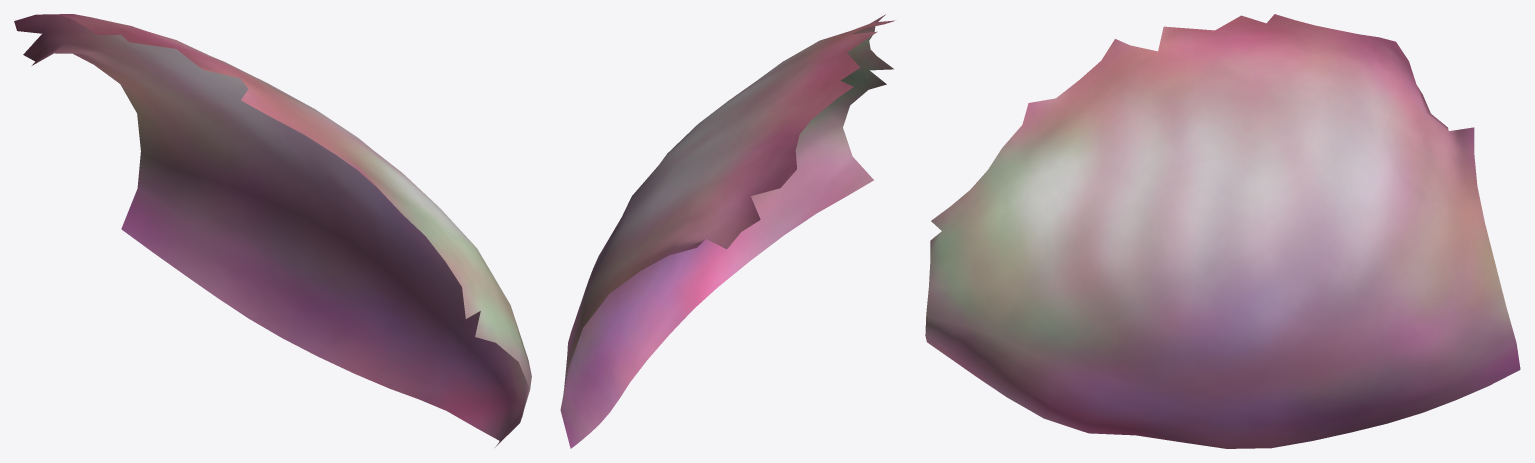
The model's file is putamen.obj.
3 renders of one model, left to right at view 1: azimuth 30°, elevation 25°; view 2: azimuth 150°, elevation 25°; view 3: azimuth 270°, elevation 25°, orthographic. The views are drawn at different scales.
Visible parts, largest first — view 1: putamen; view 2: putamen; view 3: putamen.
Boxes of the visible parts, <box> form: putamen: <box>14,14,531,447</box>; putamen: <box>560,14,894,448</box>; putamen: <box>925,14,1520,448</box>.
Bounding box in the file's own units: 216 × 278 × 448.
1 material, 1 textured.
